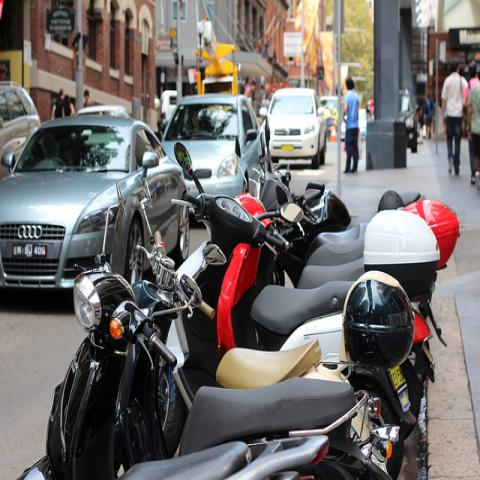car: (0, 106, 192, 303), (165, 93, 271, 200), (265, 87, 327, 169), (1, 79, 40, 192), (340, 109, 373, 142), (319, 96, 339, 130), (160, 90, 178, 124)
motorcycle: (23, 256, 389, 474), (220, 195, 413, 469), (159, 193, 352, 459), (264, 117, 461, 268), (236, 188, 444, 314), (257, 163, 425, 286), (126, 439, 346, 472)
